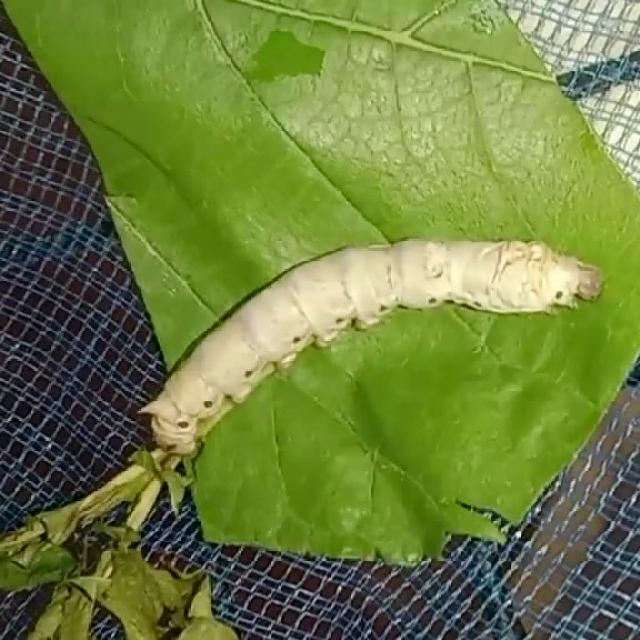Grasserie: (95, 202, 620, 476)
